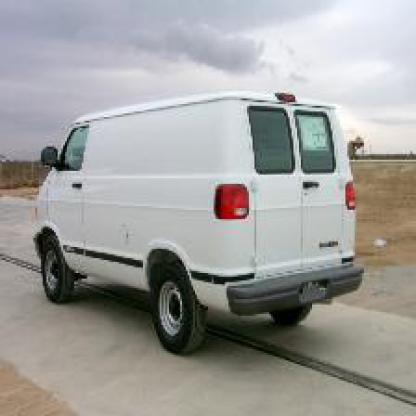not_emergency: (30, 98, 360, 348)
